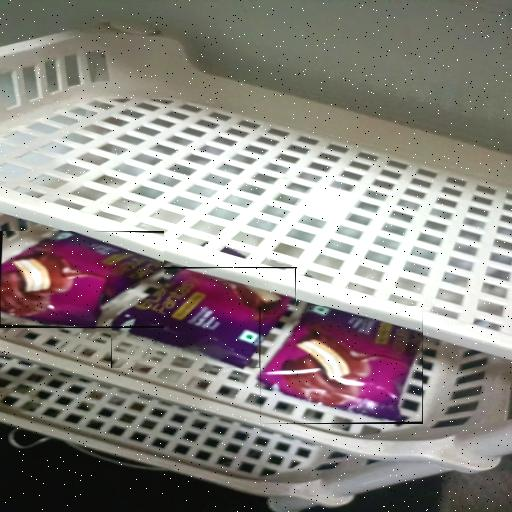Choco Pie: (260, 306, 423, 424), (112, 267, 298, 368), (0, 231, 164, 327)
